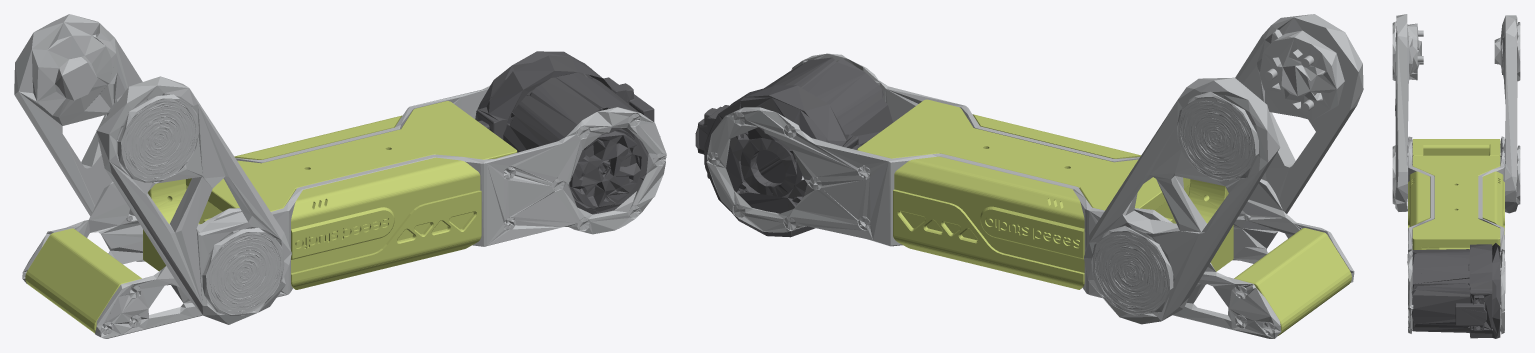
3 renders of one model, left to right at view 1: azimuth 30°, elevation 25°; view 2: azimuth 150°, elevation 25°; view 3: azimuth 270°, elevation 25°, orthographic. The views are drawn at different scales.
Visible parts, largest first — view 1: cnc3, pla3_black_without_seeed_badge, motor_4, pla3_green, pla3_seeed_badge_with_counters; view 2: cnc3, pla3_black_without_seeed_badge, motor_4, pla3_green, pla3_seeed_badge_with_counters; view 3: pla3_black_without_seeed_badge, cnc3, motor_4, pla3_seeed_badge_with_counters.
Boxes of the visible parts, x1,y1,x2,y2 form: cnc3: (14,14,666,338); pla3_black_without_seeed_badge: (25,101,517,333); motor_4: (475,51,660,214); pla3_green: (291,190,481,289); pla3_seeed_badge_with_counters: (291,207,394,259); cnc3: (706,14,1363,338); pla3_black_without_seeed_badge: (857,99,1351,335); motor_4: (695,57,892,237); pla3_green: (893,189,1084,289); pla3_seeed_badge_with_counters: (980,206,1084,259); pla3_black_without_seeed_badge: (1409,139,1503,249); cnc3: (1392,14,1520,334); motor_4: (1411,243,1500,338); pla3_seeed_badge_with_counters: (1408,181,1504,225).
Bounding box in the file's own units: 0.2947 × 0.1306 × 0.0866.
